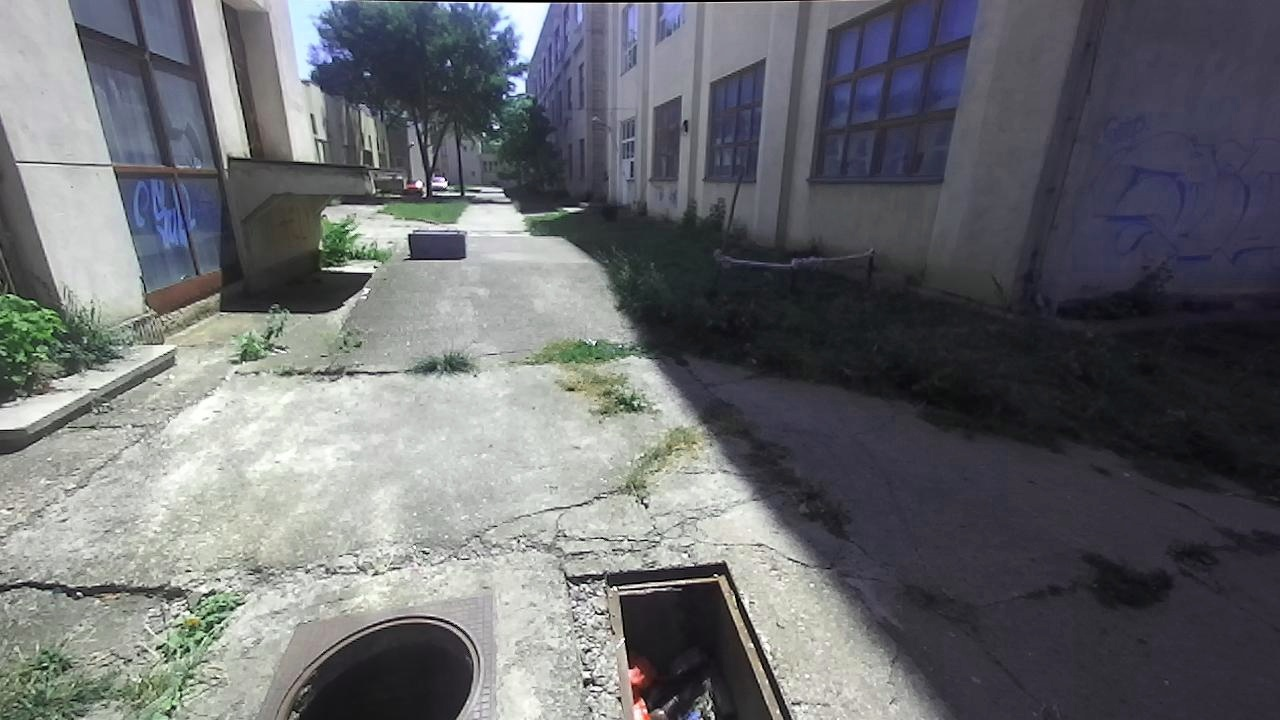drain: (599, 561, 799, 718), (275, 602, 486, 717)
